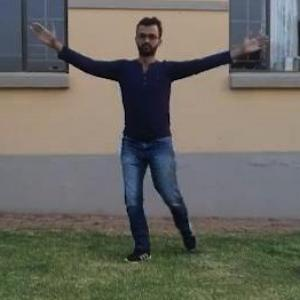takeoff: (32, 17, 236, 236)
